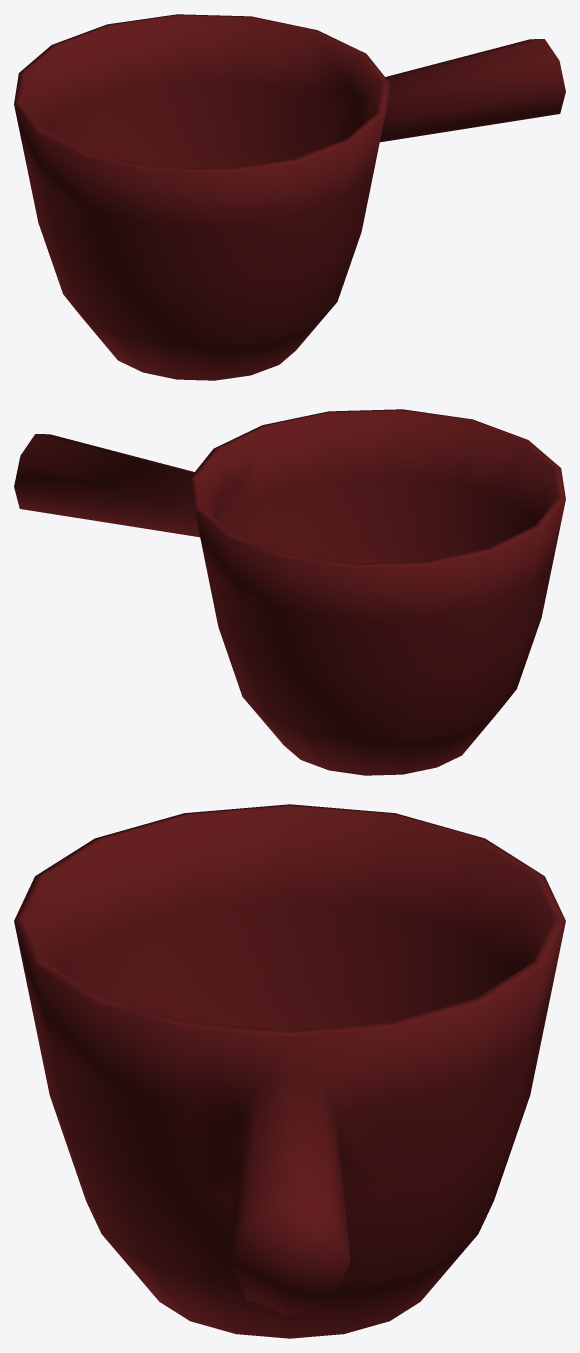
File: water sucker.fbx
3 views of the same model, one above another, from view 1: azimuth 30°, elevation 25°; view 2: azimuth 150°, elevation 25°; view 3: azimuth 270°, elevation 25° (orthographic). The views are drawn at different scales.
Parts seen in each view (by area): view 1: Cylinder.020; view 2: Cylinder.020; view 3: Cylinder.020.
Boxes of the visible parts, left/top/right/bottom form: Cylinder.020: left=14, top=14, right=565, bottom=380; Cylinder.020: left=14, top=409, right=565, bottom=775; Cylinder.020: left=14, top=804, right=565, bottom=1338.
Bounding box in the file's own units: 24.45 × 15.7 × 11.3.
